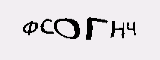Г: (85, 17, 108, 40)
Н: (109, 20, 127, 40)
О: (53, 17, 80, 40)
С: (38, 18, 55, 35)
Ф: (21, 19, 37, 37)
Ч: (126, 20, 137, 35)
